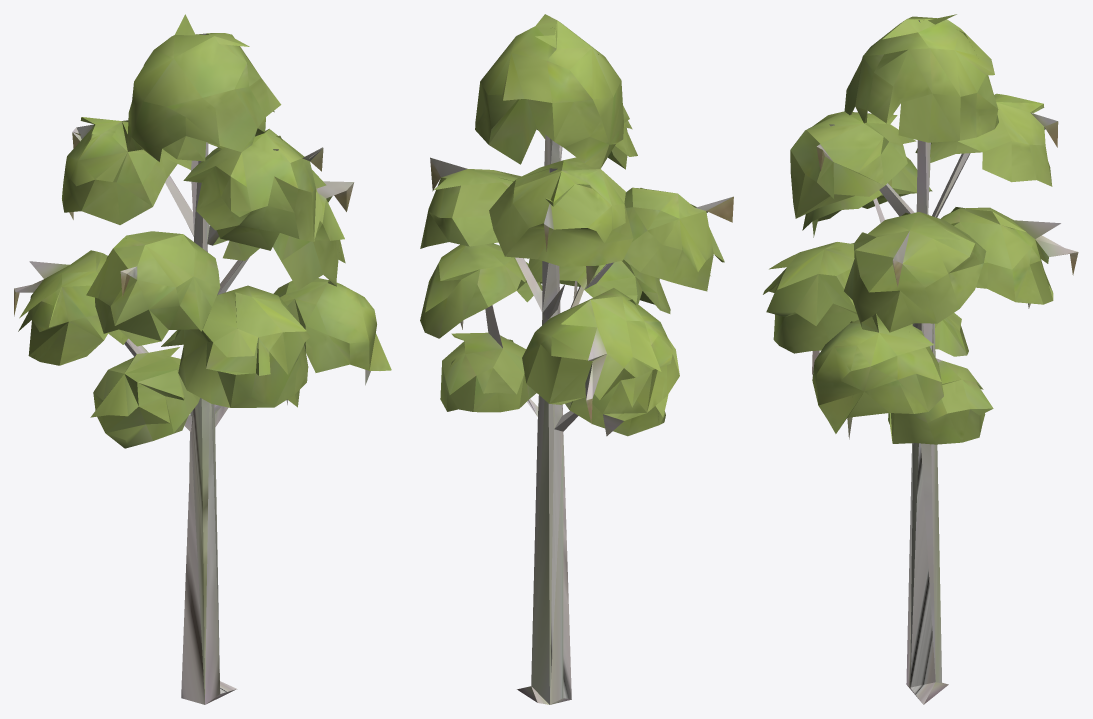
File: bg_forest_birch_1_lod0.glb
3 views of the same model, side by side, from view 1: azimuth 30°, elevation 25°; view 2: azimuth 150°, elevation 25°; view 3: azimuth 270°, elevation 25° (orthographic).
Parts seen in each view (by area): view 1: sway, body; view 2: sway, body; view 3: sway, body.
Boxes of the visible parts, x1,y1,x2,y2 form: sway: [14, 14, 391, 701]; body: [14, 33, 323, 704]; sway: [420, 14, 724, 436]; body: [515, 140, 733, 704]; sway: [763, 14, 1077, 444]; body: [816, 20, 1078, 704].
Size of the model in its own units: 3.16 by 6.93 by 2.95.
1 material, 1 textured.
